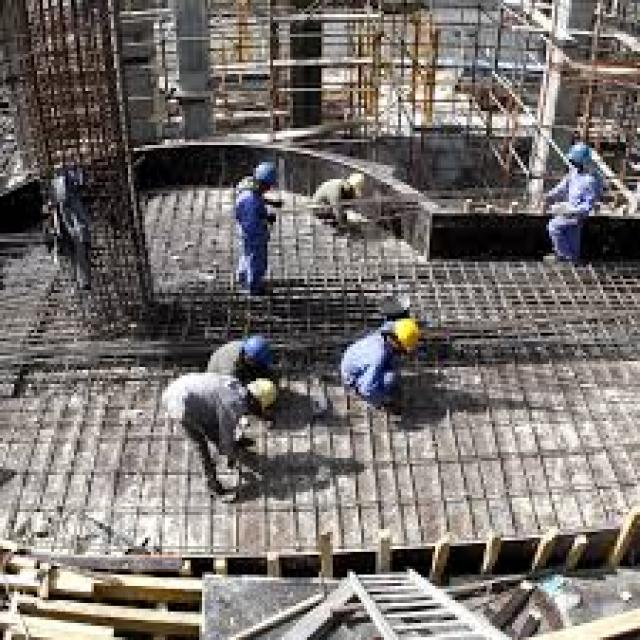Reflective-Jacket: (151, 364, 256, 455)
Safety-Helmet: (330, 327, 404, 415), (378, 310, 432, 361), (242, 373, 287, 418), (248, 157, 284, 190)
